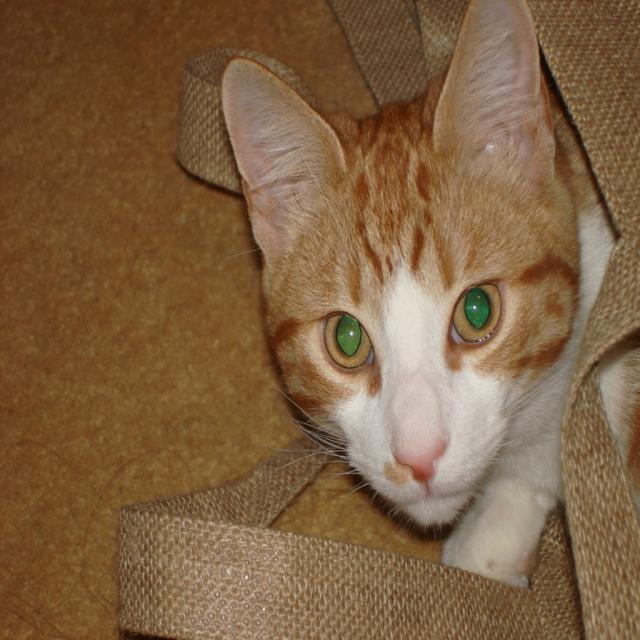Cat: (220, 0, 639, 588)
